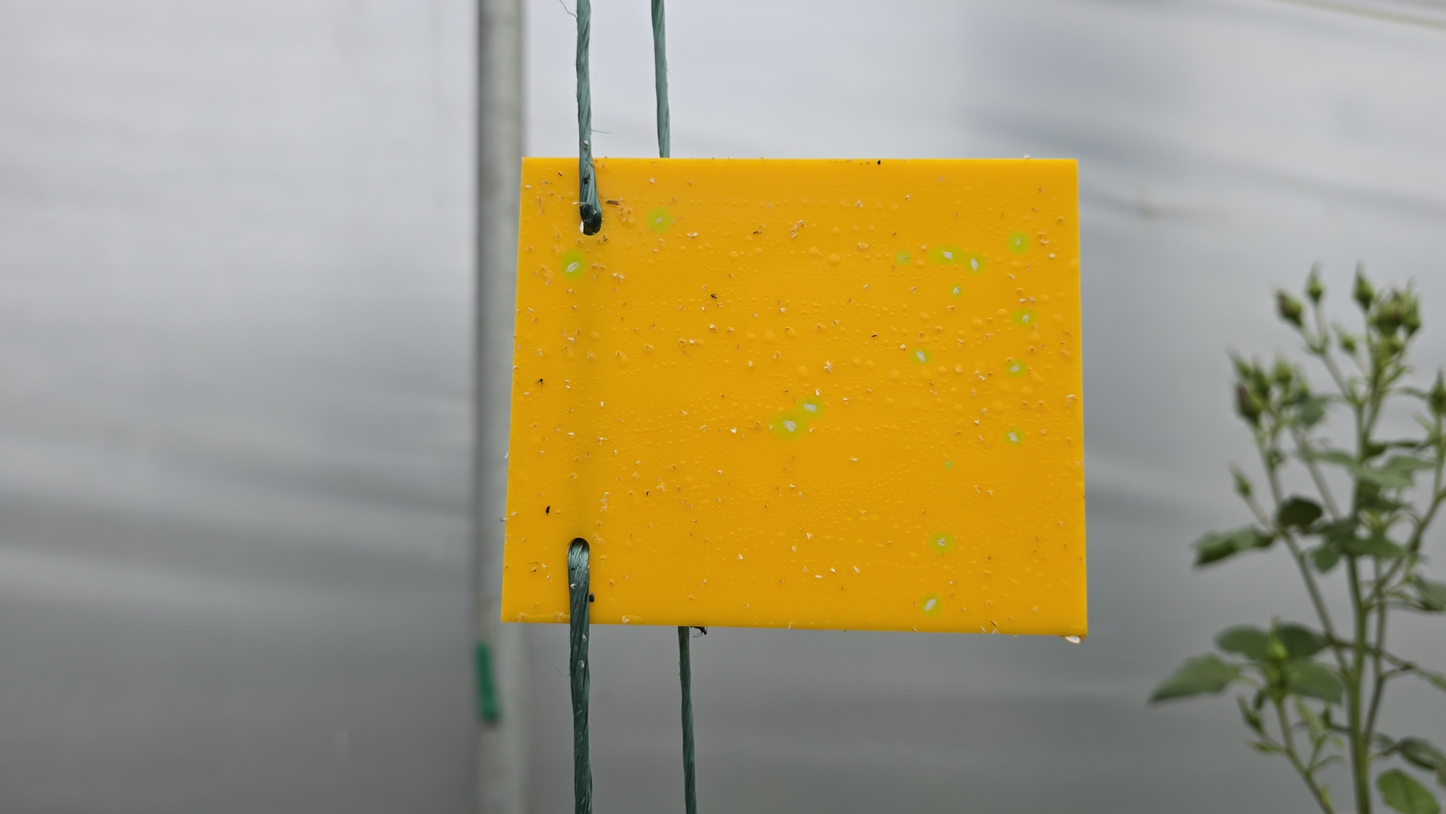WF: (774, 414, 803, 436), (562, 253, 583, 276), (932, 247, 961, 262), (649, 210, 669, 230), (799, 399, 821, 417), (921, 596, 940, 614), (932, 534, 952, 551), (965, 254, 984, 271), (1009, 234, 1026, 252), (1014, 310, 1034, 325), (1005, 429, 1022, 444), (912, 350, 930, 363), (1008, 361, 1024, 375), (897, 252, 910, 264), (951, 284, 961, 296), (823, 361, 833, 372), (855, 200, 865, 209), (986, 489, 997, 497), (1048, 252, 1057, 261), (699, 425, 709, 433), (851, 567, 861, 575), (1065, 394, 1078, 400), (510, 511, 521, 518), (801, 566, 810, 574), (899, 343, 907, 351), (524, 184, 533, 191), (679, 410, 688, 417), (829, 567, 838, 574), (716, 469, 724, 476), (921, 245, 928, 253), (1009, 273, 1016, 281), (969, 390, 977, 397), (851, 456, 859, 463), (807, 532, 814, 540), (814, 390, 821, 398), (600, 498, 609, 504), (814, 574, 823, 580), (788, 484, 797, 490), (689, 339, 696, 346), (974, 419, 981, 426), (980, 626, 987, 633), (790, 232, 797, 239), (709, 322, 715, 330), (793, 223, 799, 231), (1019, 298, 1027, 304), (769, 424, 775, 432), (904, 195, 912, 201), (911, 287, 919, 293), (779, 308, 787, 314), (797, 220, 806, 225), (693, 232, 700, 238), (731, 428, 738, 434), (857, 243, 863, 250), (974, 369, 980, 376), (798, 492, 804, 499), (864, 284, 871, 290), (945, 461, 951, 468), (567, 337, 575, 342), (600, 400, 605, 408), (568, 432, 576, 437), (542, 565, 548, 571), (779, 416, 785, 422), (992, 629, 998, 635), (613, 450, 619, 456), (619, 275, 626, 280), (565, 385, 572, 390), (635, 461, 642, 466), (624, 619, 631, 624), (703, 579, 708, 586), (980, 376, 987, 381), (769, 202, 773, 210), (686, 232, 692, 237), (613, 272, 618, 278), (701, 306, 706, 312), (528, 308, 534, 313), (547, 574, 552, 580), (739, 555, 744, 561), (524, 393, 531, 397), (565, 380, 572, 384), (604, 492, 611, 496), (650, 179, 655, 184), (658, 239, 664, 243), (599, 437, 605, 441), (605, 438, 611, 442), (573, 202, 578, 206), (622, 616, 626, 621), (810, 429, 815, 433), (602, 506, 607, 509)
